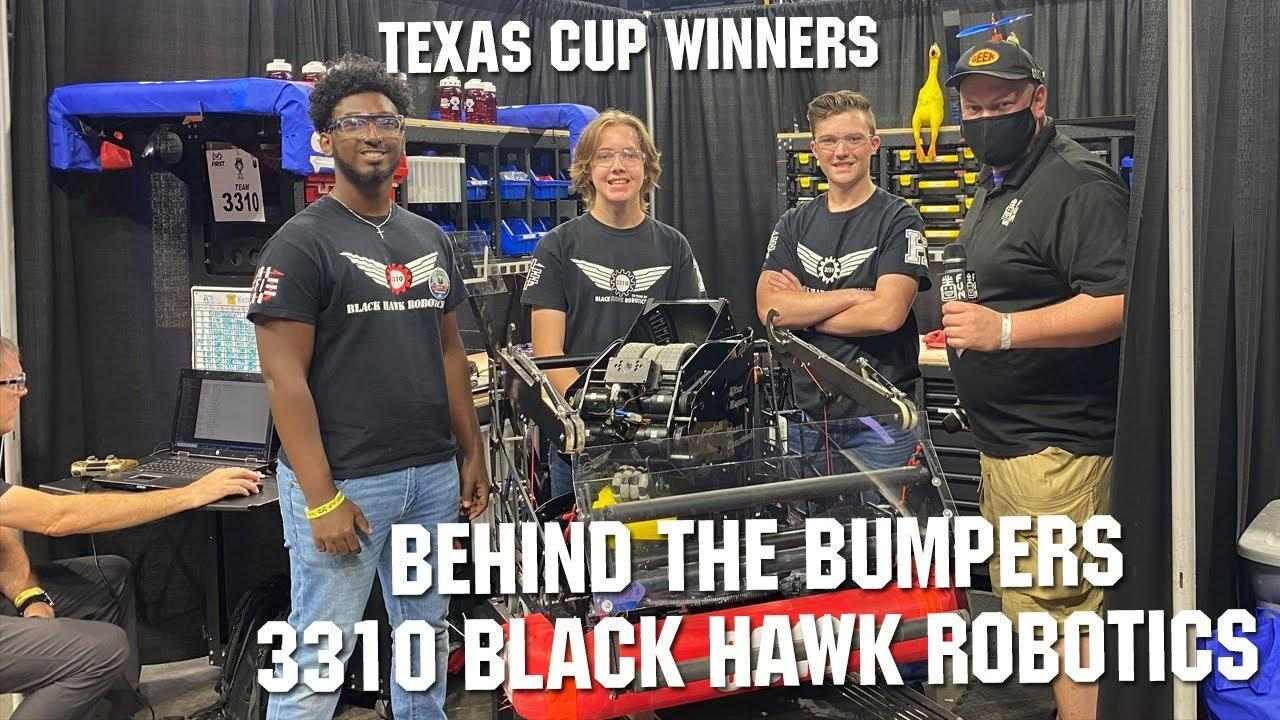robot: (435, 279, 982, 720)
